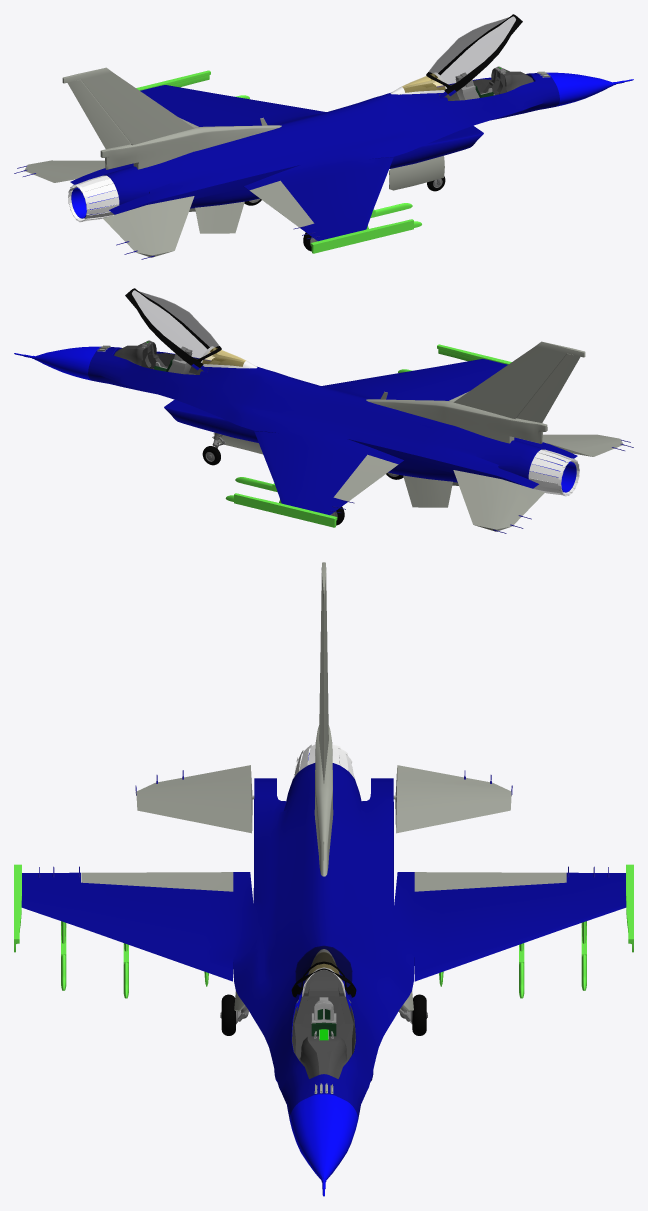
Rendered from F-16_Animation_LandingGear_Idle.fbx.
The picture shows the model from 3 angles, top to bottom: view 1: azimuth 30°, elevation 25°; view 2: azimuth 150°, elevation 25°; view 3: azimuth 270°, elevation 25°; orthographic projection. The views are drawn at different scales.
Parts seen in each view (by area): view 1: F-16, Upper_fin_tail, tail_fin, F-16 Canopee, Rear Wings.003, wing_right_control, Upper Wing, Rear Wings.001, under_wings, Cockpit, Wing 2, F-16 Front Wheel Flap (+1 smaller); view 2: F-16, Upper_fin_tail, tail_fin, F-16 Canopee, Rear Wings.001, wing_right_control, Upper Wing, Rear Wings.003, under_wings, Cockpit, wing_left_control, Cockpit Rear (+1 smaller); view 3: F-16, Rear Wings.003, Rear Wings.001, Cockpit, Wing 2, wing_left_control, tail_fin, F-16 Canopee, Upper_fin_tail, wing_right_control.
Boxes of the visible parts, x1,y1,x2,y2 form: F-16: (70, 72, 633, 241); Upper_fin_tail: (62, 67, 194, 145); tail_fin: (100, 125, 281, 169); F-16 Canopee: (426, 14, 522, 98); Rear Wings.003: (103, 196, 194, 257); wing_right_control: (136, 70, 413, 253); Upper Wing: (67, 79, 131, 148); Rear Wings.001: (24, 160, 105, 182); under_wings: (189, 201, 244, 233); Cockpit: (397, 68, 533, 100); Wing 2: (249, 180, 314, 227); F-16 Front Wheel Flap: (389, 155, 444, 190); F-16: (14, 346, 577, 515); Upper_fin_tail: (453, 341, 585, 419); tail_fin: (366, 399, 547, 443); F-16 Canopee: (125, 288, 221, 372); Rear Wings.001: (453, 470, 544, 531); wing_right_control: (234, 344, 511, 527); Upper Wing: (516, 353, 580, 422); Rear Wings.003: (542, 434, 623, 456); under_wings: (403, 475, 458, 507); Cockpit: (114, 342, 243, 374); wing_left_control: (333, 454, 398, 501); Cockpit Rear: (201, 346, 257, 368); F-16: (21, 753, 626, 1196); Rear Wings.003: (136, 765, 254, 833); Rear Wings.001: (393, 765, 511, 833); Cockpit: (292, 952, 355, 1078); Wing 2: (81, 872, 233, 891); wing_left_control: (414, 872, 566, 891); tail_fin: (314, 725, 333, 876); F-16 Canopee: (291, 946, 356, 998); Upper_fin_tail: (319, 562, 328, 783); wing_right_control: (14, 864, 633, 952).
Size of the model in its own units: 4733 by 7609 by 2600.
